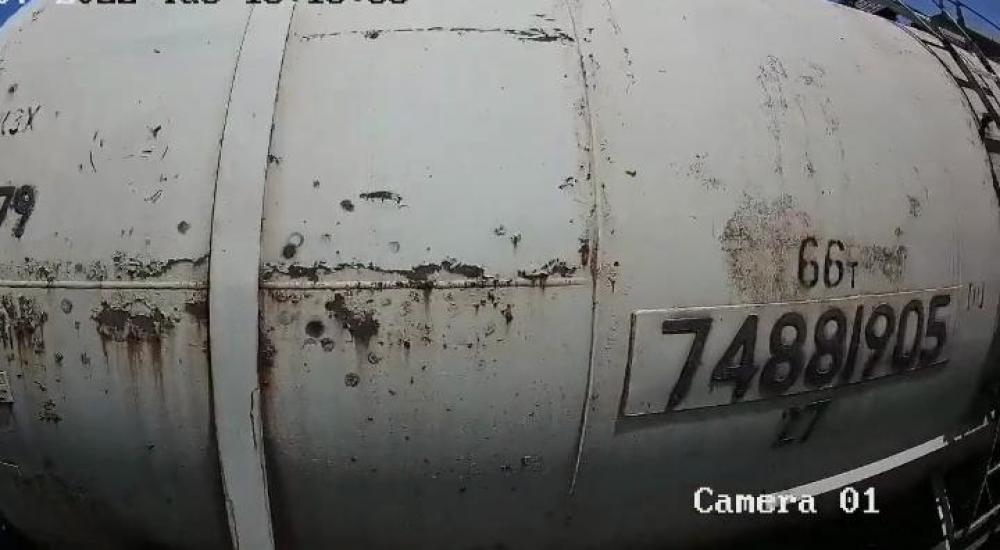Wagon-number: (654, 289, 958, 413)
